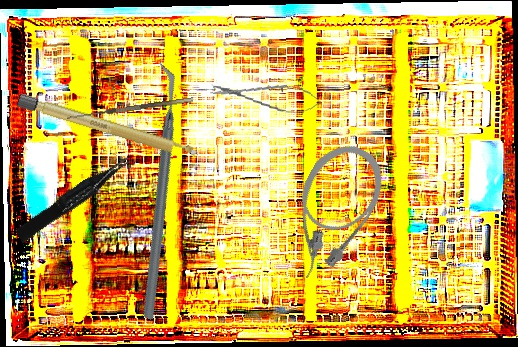Cannula: (264, 133, 397, 290)
Chopper: (47, 59, 267, 323)
Hook Surgical: (66, 97, 195, 126)
Micro Scissor: (208, 75, 324, 117)
Scalpel Handle: (15, 92, 201, 163)
Tissue Forceps: (11, 153, 138, 244)
